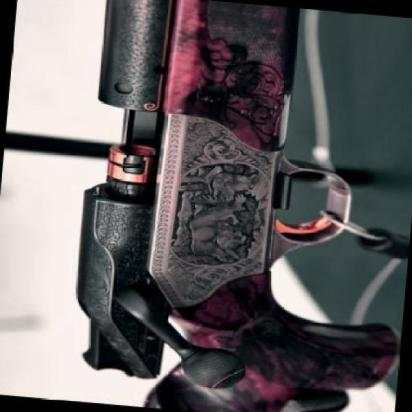Gun: (38, 0, 412, 412)
